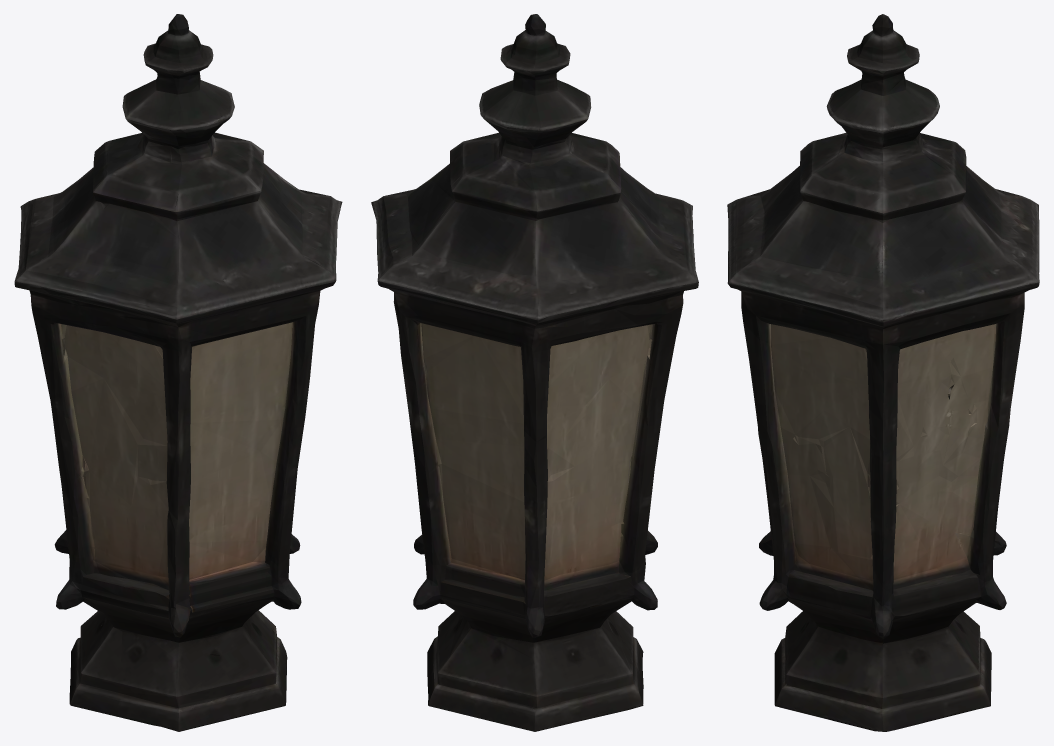
Rendered from lantern_tall.glb.
3 renders of one model, left to right at view 1: azimuth 30°, elevation 25°; view 2: azimuth 150°, elevation 25°; view 3: azimuth 270°, elevation 25°, orthographic.
Visible parts, largest first — view 1: geometry_0; view 2: geometry_0; view 3: geometry_0.
Boxes of the visible parts, left/top/right/bottom form: geometry_0: left=14, top=14, right=342, bottom=731; geometry_0: left=371, top=14, right=698, bottom=731; geometry_0: left=727, top=14, right=1039, bottom=731.
Size of the model in its own units: 0.5162 by 1 by 0.4252.
1 material, 1 textured.
